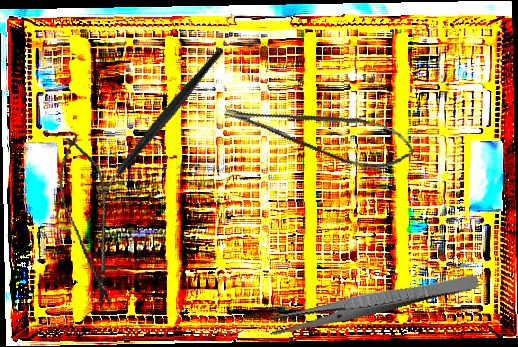Chopper: (62, 45, 262, 208)
Dressing Forceps: (266, 267, 480, 338)
Micro Scissor: (221, 73, 420, 184), (48, 129, 130, 315)
